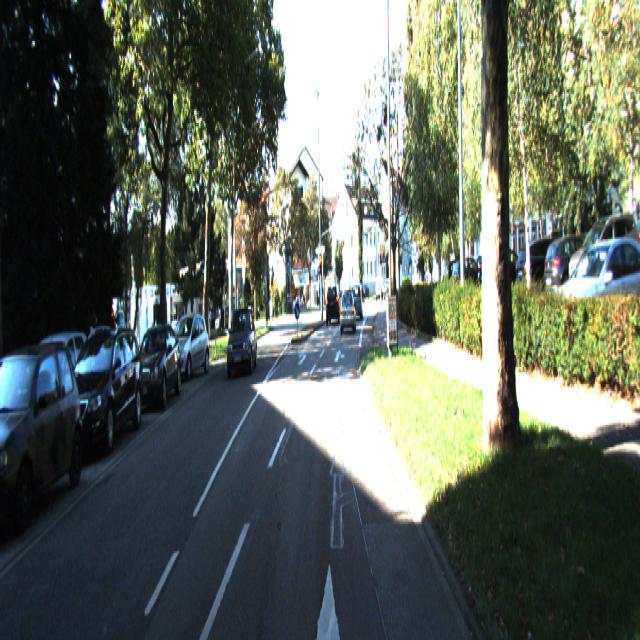Car: (0, 340, 85, 554), (52, 327, 146, 468), (129, 322, 182, 408), (165, 313, 210, 382), (226, 310, 257, 376), (340, 294, 355, 337)
